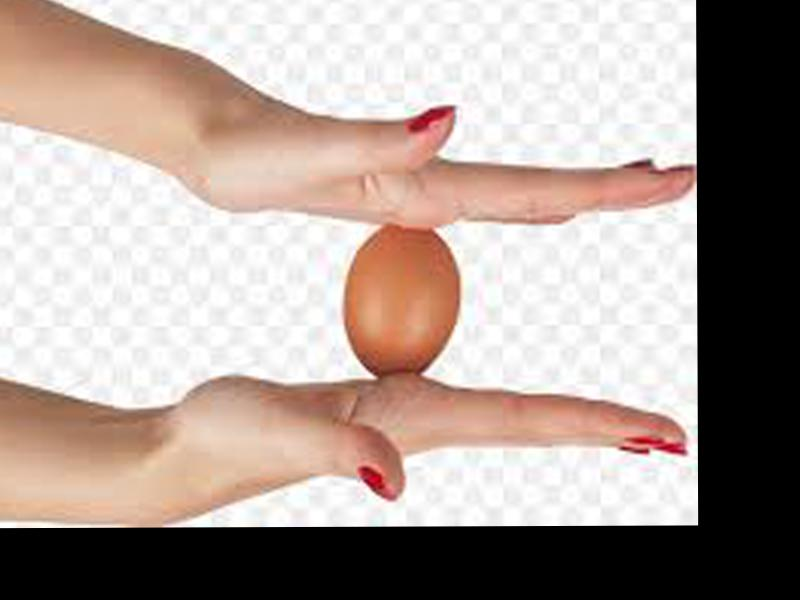Eggs: (343, 224, 456, 375)
